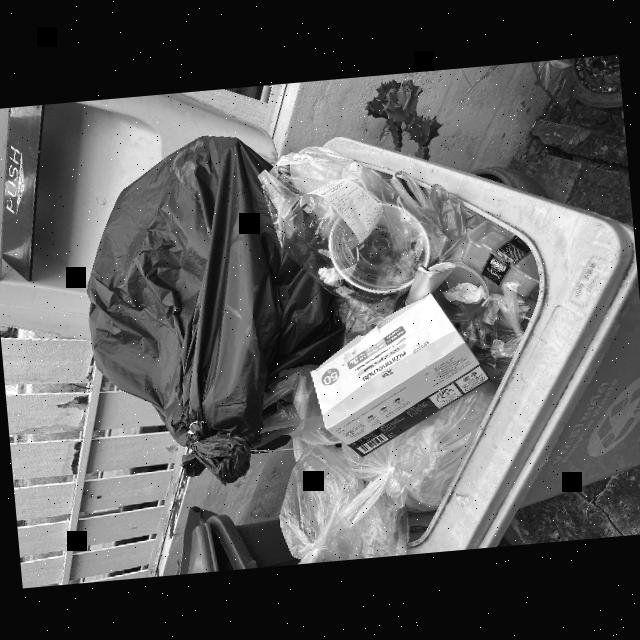cardboard_box: (302, 290, 496, 460)
plastic_bag: (71, 129, 353, 496), (326, 285, 506, 519), (256, 134, 440, 306), (272, 437, 413, 564), (452, 278, 539, 382), (413, 182, 472, 264)
plastic_box: (460, 213, 540, 299)
scrap_paper: (298, 174, 385, 247), (442, 278, 486, 308), (316, 264, 342, 288)
